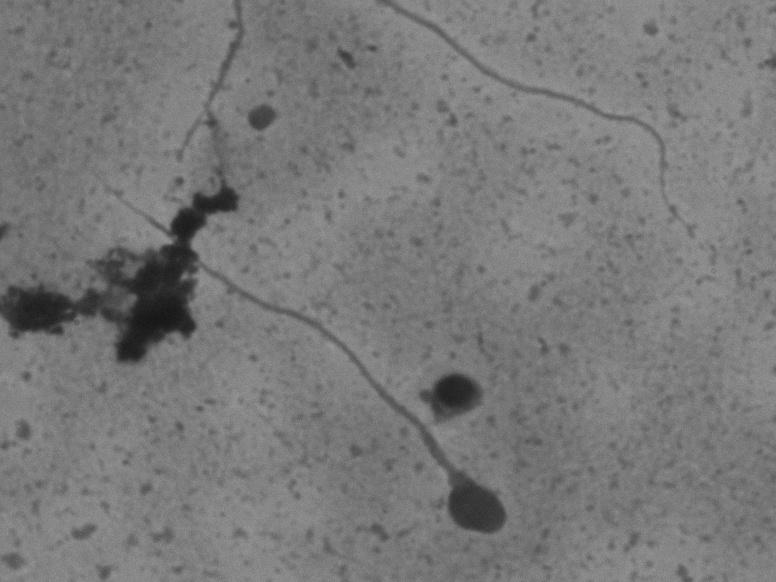Abnormal: (97, 182, 516, 547)
